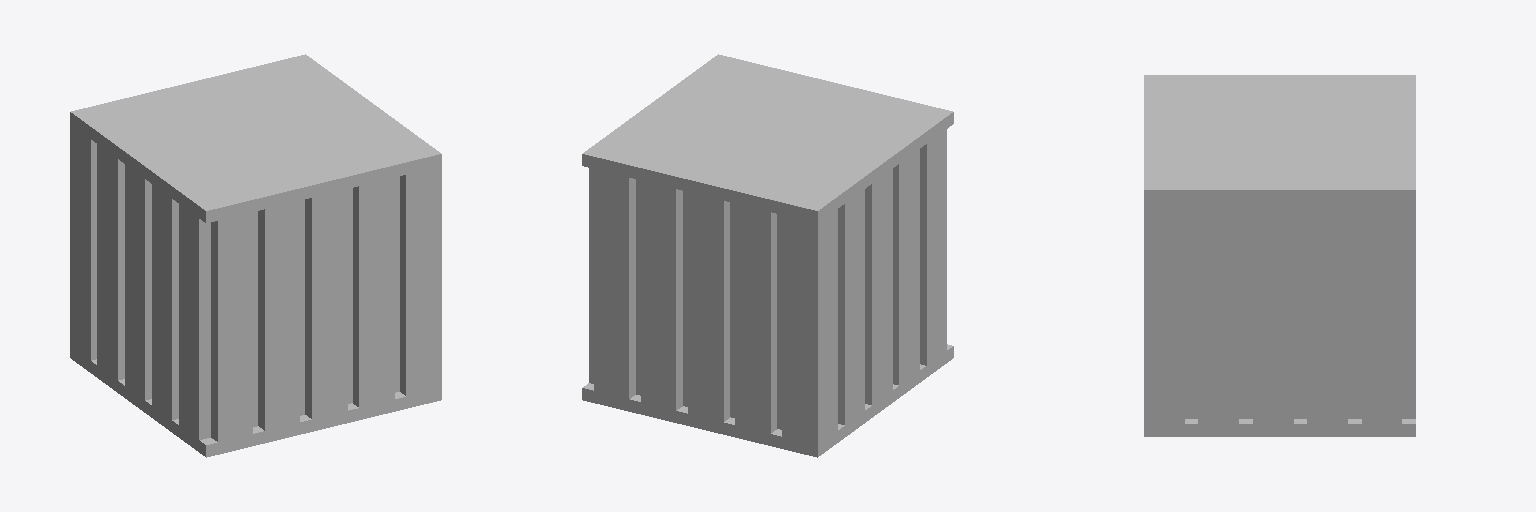
File: wall_block.obj
The picture shows the model from 3 angles: view 1: azimuth 30°, elevation 25°; view 2: azimuth 150°, elevation 25°; view 3: azimuth 270°, elevation 25°; orthographic projection.
Visible parts, largest first — view 1: wall_block; view 2: wall_block; view 3: wall_block.
Part boxes in pixels (bbox=[...]): wall_block: bbox=[70, 54, 441, 457]; wall_block: bbox=[582, 54, 953, 457]; wall_block: bbox=[1144, 75, 1415, 436].
Bounding box in the file's own units: 20 × 20 × 20.